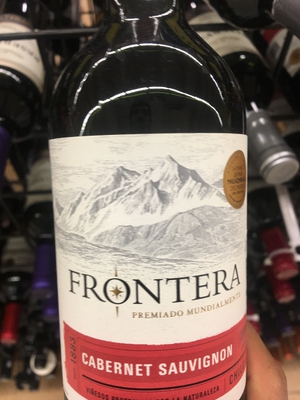frontera cabernet sauvignon: (45, 14, 259, 400)
